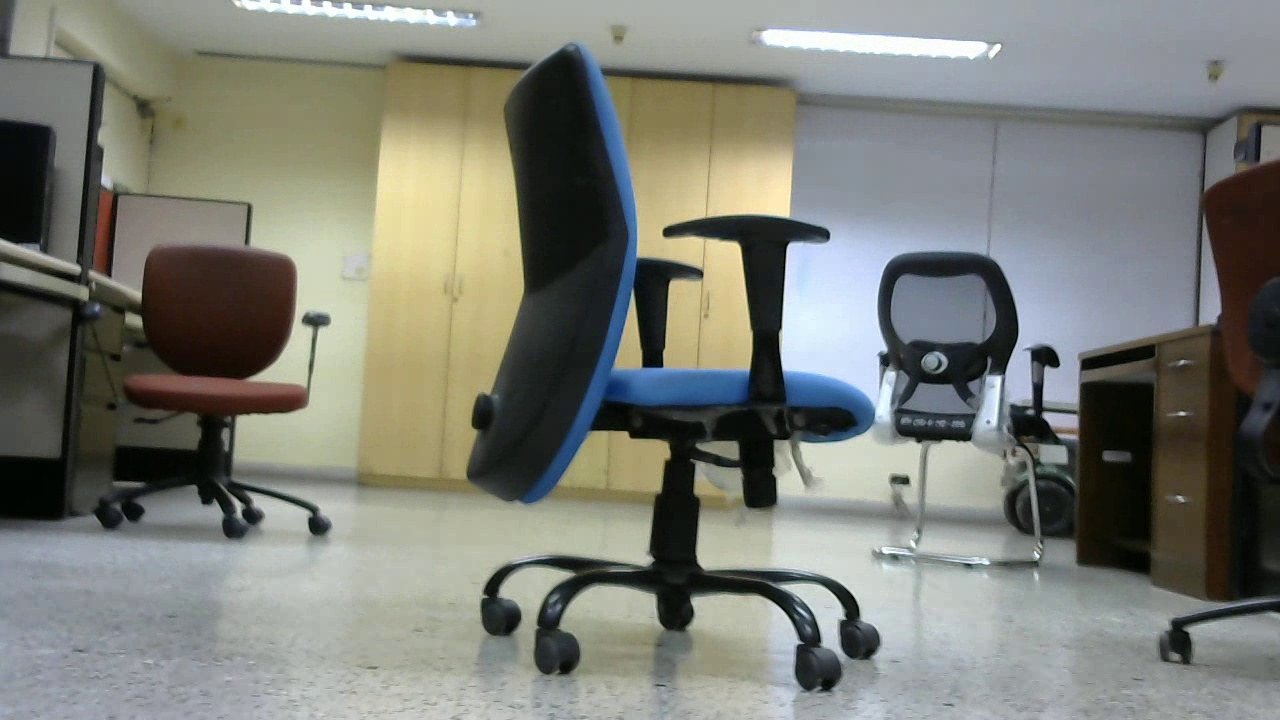chair: (467, 40, 894, 697), (91, 235, 338, 545), (865, 247, 1062, 574)
